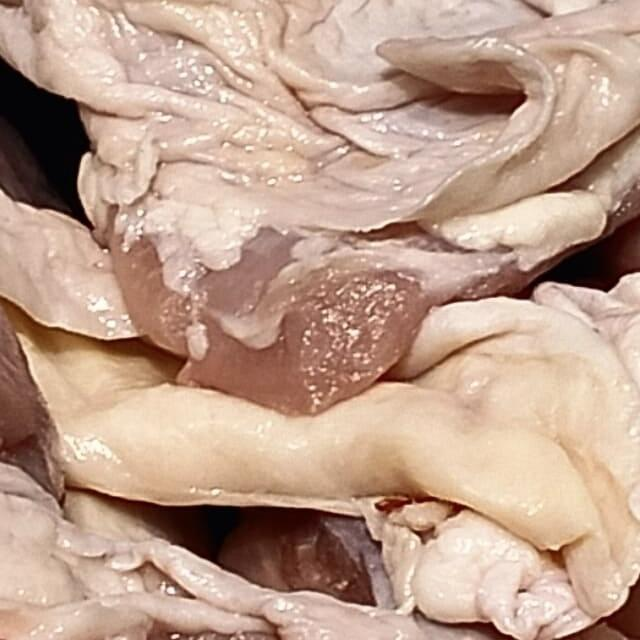chicken: (154, 0, 640, 506)
